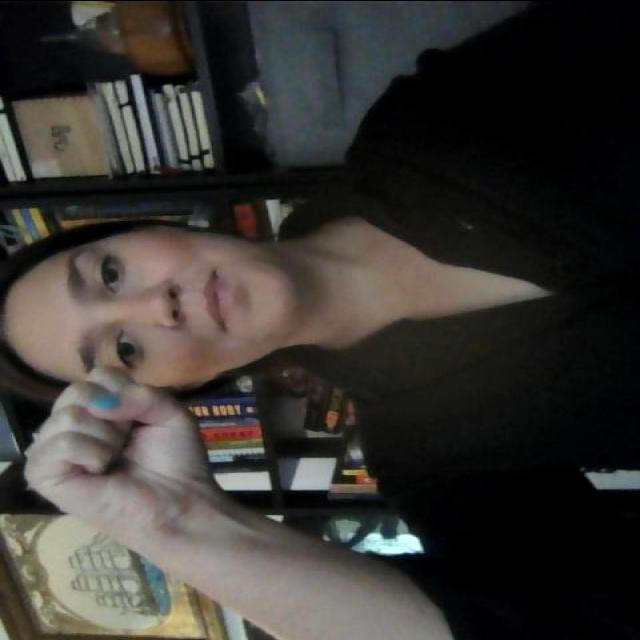Rock: (8, 339, 255, 566)
